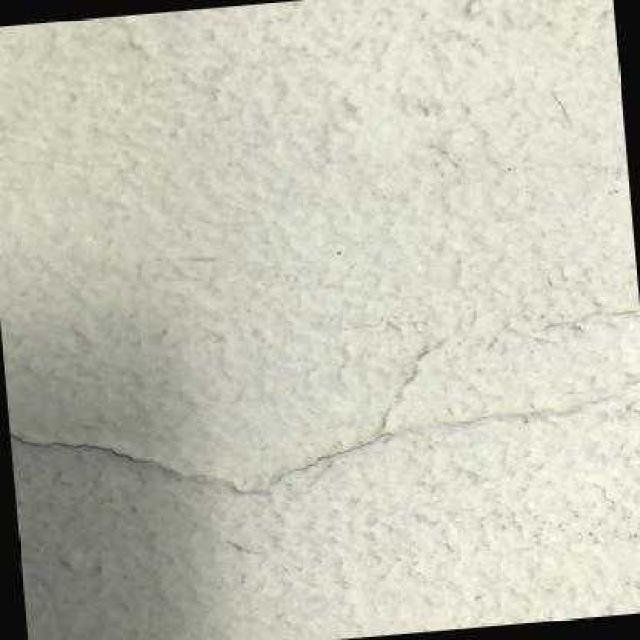D00: (257, 393, 625, 495), (8, 426, 179, 480)
